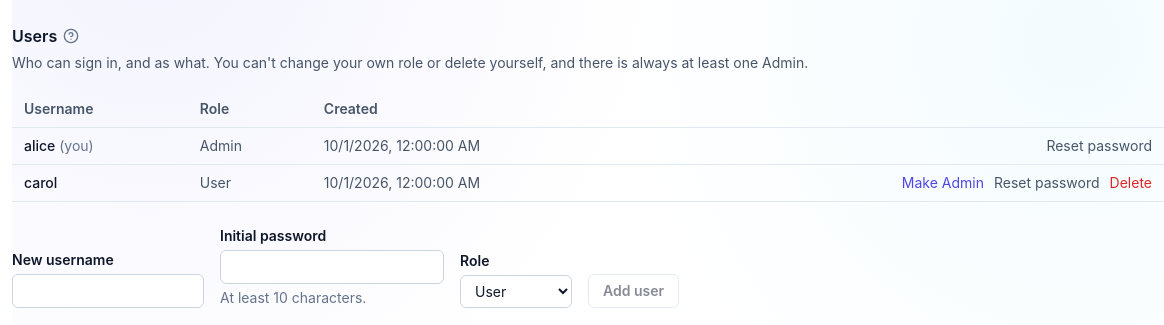
UsersSettings › switches a role
Step 1. Click the button "Make Admin" → (943,183), box [902,173,984,193]
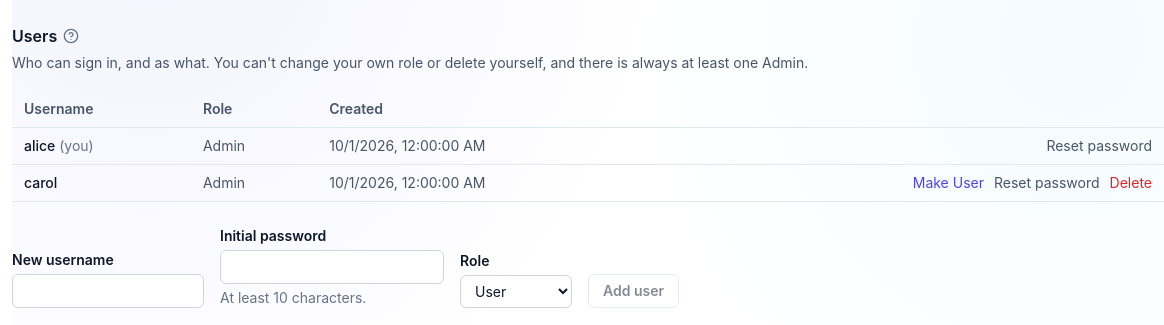
Check: the row that starts with "carol" shows "Make User", box [913,173,984,193]
